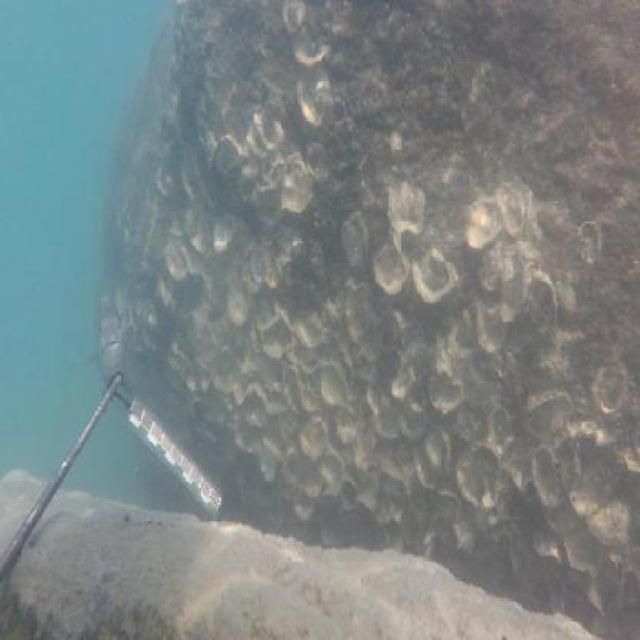acanthopagrus_palmaris: (93, 288, 125, 392)
